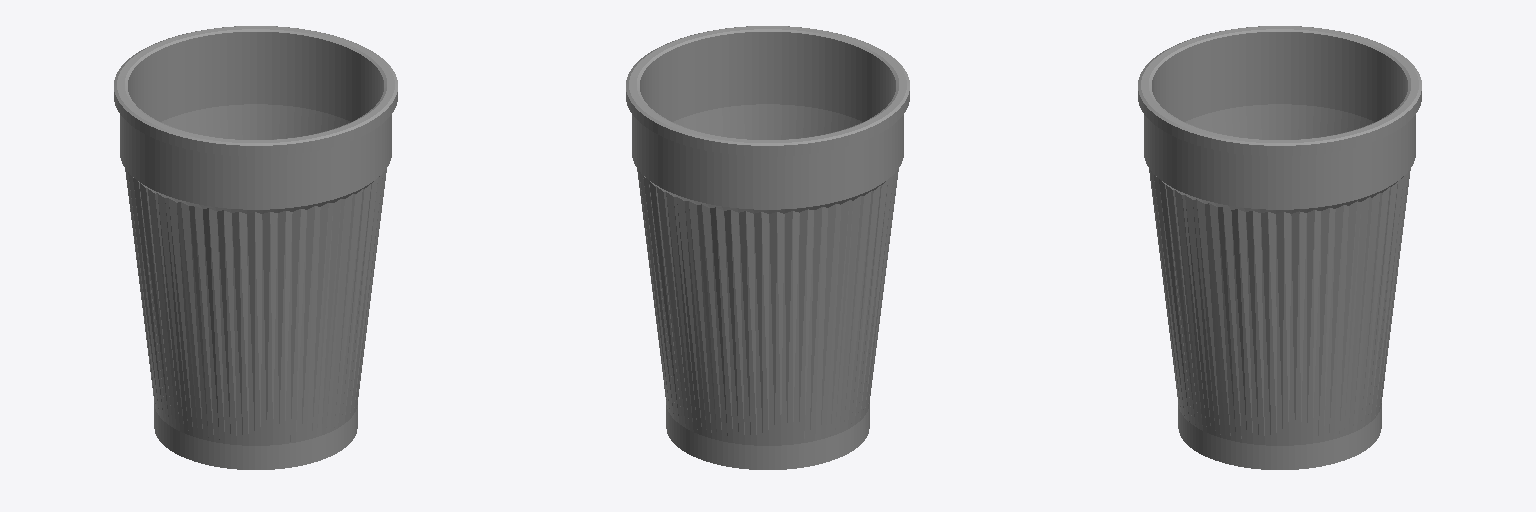
File: plastic_coffee_cup.obj
3 renders of one model, left to right at view 1: azimuth 30°, elevation 25°; view 2: azimuth 150°, elevation 25°; view 3: azimuth 270°, elevation 25°, orthographic.
Visible parts, largest first — view 1: Cylinder_Cylinder.001; view 2: Cylinder_Cylinder.001; view 3: Cylinder_Cylinder.001.
Boxes of the visible parts, x1=… form: Cylinder_Cylinder.001: x1=114, y1=26, x2=397, y2=469; Cylinder_Cylinder.001: x1=626, y1=26, x2=909, y2=469; Cylinder_Cylinder.001: x1=1138, y1=26, x2=1421, y2=469.
Bounding box in the file's own units: 2.09 × 2.78 × 2.09.